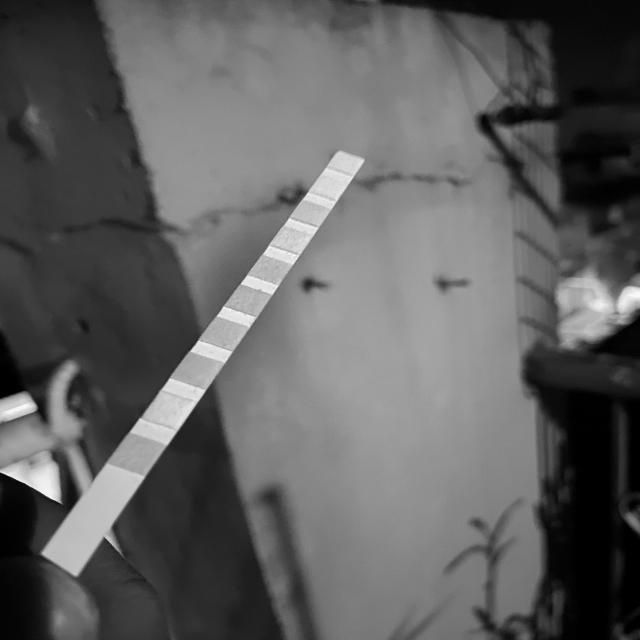Bilirubin: (156, 398, 185, 423)
Blood: (236, 292, 264, 310)
Glucose: (122, 441, 153, 466)
Ketone: (184, 358, 213, 382)
Leukocytes: (334, 157, 357, 173)
Nitrite: (318, 179, 342, 196)
Protein: (278, 232, 306, 249)
SpGravity: (210, 324, 240, 344)
Urobilinogen: (298, 205, 324, 222)
background: (0, 0, 640, 640)
pH: (258, 262, 286, 279)
strip: (41, 150, 366, 572)
